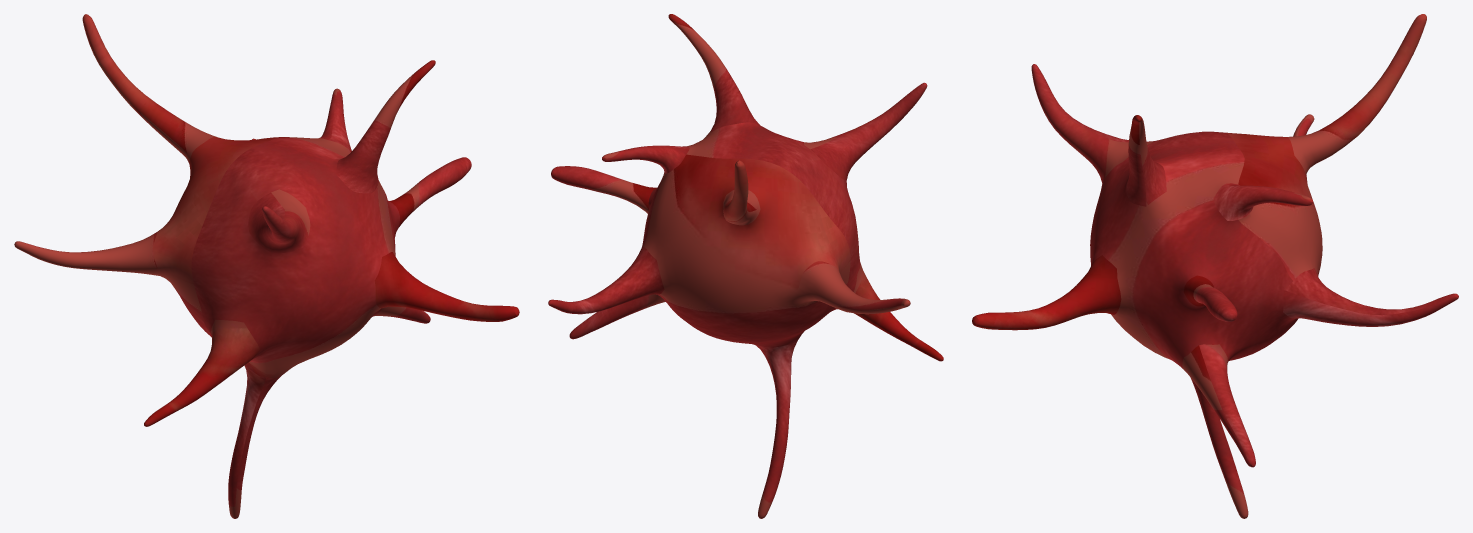
The model's file is xuexiaoban.gltf.
3 renders of one model, left to right at view 1: azimuth 30°, elevation 25°; view 2: azimuth 150°, elevation 25°; view 3: azimuth 270°, elevation 25°, orthographic. The views are drawn at different scales.
Visible parts, largest first — view 1: xuexiaoban1; view 2: xuexiaoban1; view 3: xuexiaoban1.
Part boxes in pixels (bbox=[...]): xuexiaoban1: bbox=[14, 14, 519, 518]; xuexiaoban1: bbox=[548, 14, 943, 518]; xuexiaoban1: bbox=[972, 14, 1458, 518].
Bounding box in the file's own units: 97.42 × 103 × 95.12.
1 material, 1 textured.
